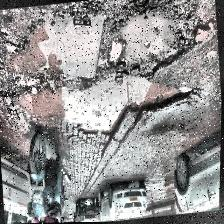pothole: (9, 63, 202, 152), (0, 4, 112, 92), (112, 0, 194, 80)
